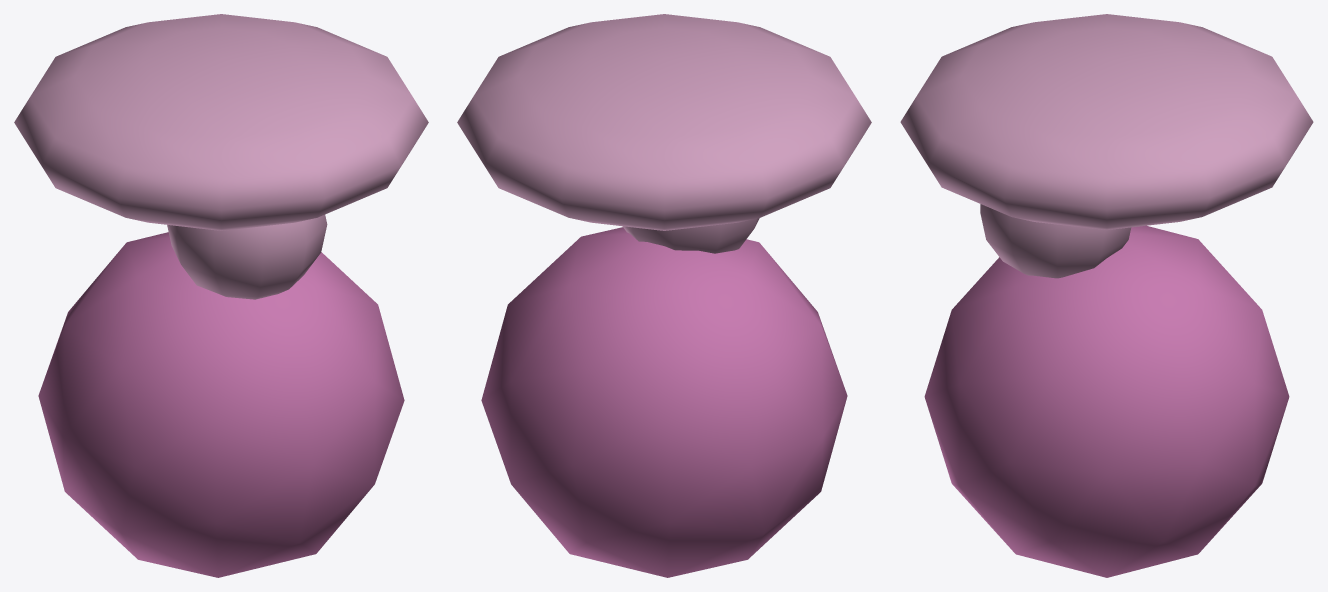
Rendered from mushroom_monster_3.glb.
3 views of the same model, side by side, from view 1: azimuth 30°, elevation 25°; view 2: azimuth 150°, elevation 25°; view 3: azimuth 270°, elevation 25° (orthographic).
Visible parts, largest first — view 1: CoreBody, MOTIF_mushroom_cap, Head; view 2: CoreBody, MOTIF_mushroom_cap, Head; view 3: CoreBody, MOTIF_mushroom_cap, Head.
Boxes of the visible parts, x1,y1,x2,y2 form: CoreBody: (38, 232, 404, 577); MOTIF_mushroom_cap: (14, 14, 428, 230); Head: (167, 214, 327, 299); CoreBody: (481, 227, 847, 577); MOTIF_mushroom_cap: (457, 14, 871, 230); Head: (622, 218, 759, 253); CoreBody: (924, 225, 1289, 577); MOTIF_mushroom_cap: (900, 14, 1313, 229); Head: (980, 204, 1131, 278).
Size of the model in its own units: 1.5 by 2.02 by 1.5.
